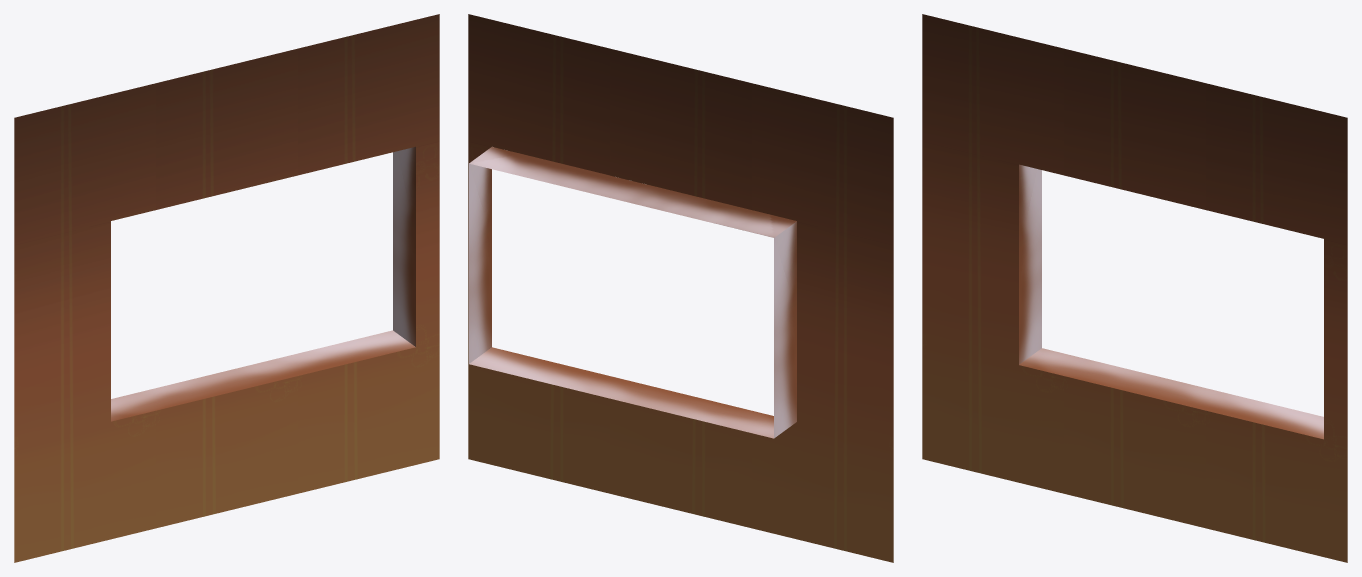
File: walls_ivonne_window.fbx
3 views of the same model, side by side, from view 1: azimuth 30°, elevation 25°; view 2: azimuth 150°, elevation 25°; view 3: azimuth 330°, elevation 25° (orthographic).
Parts seen in each view (by area): view 1: walls_interior.004; view 2: walls_interior.004; view 3: walls_interior.004.
Boxes of the visible parts, x1=… form: walls_interior.004: x1=14, y1=14, x2=439, y2=562; walls_interior.004: x1=468, y1=14, x2=893, y2=562; walls_interior.004: x1=922, y1=14, x2=1347, y2=562.
Size of the model in its own units: 3 by 3 by 0.2824.
1 material, 1 textured.
